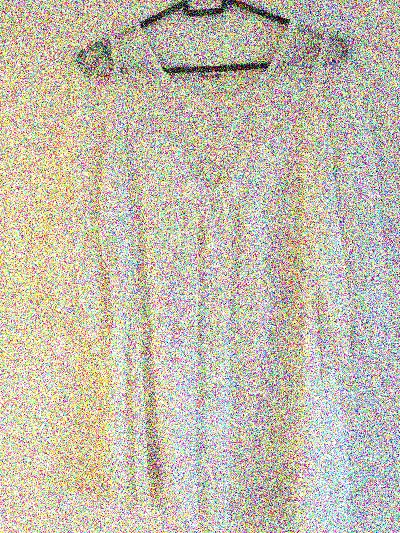Dress: (32, 23, 390, 531)
